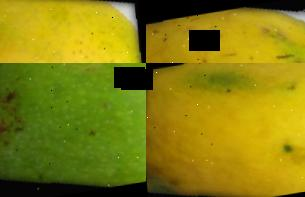PartiallyRipe: (0, 0, 146, 63)
Ripe: (146, 63, 305, 197), (146, 0, 305, 63)
Unripe: (0, 63, 146, 197)
